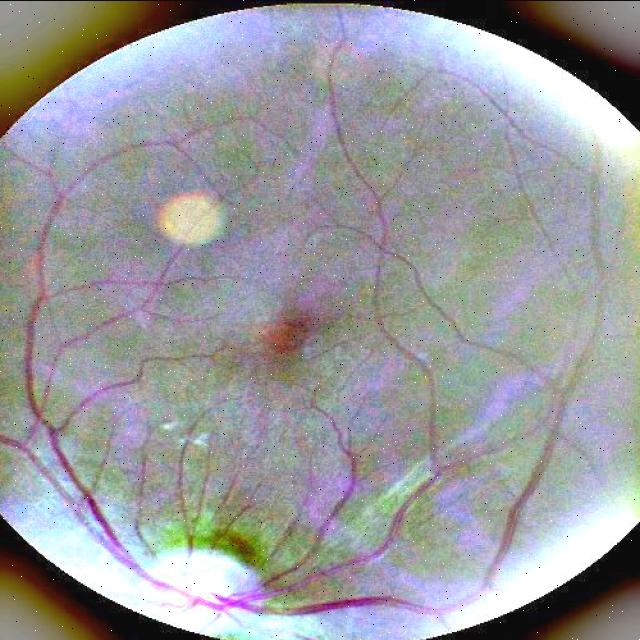Macula: (213, 269, 334, 395)
Nerves: (15, 148, 619, 625)
Optic Disk: (73, 533, 318, 640)
